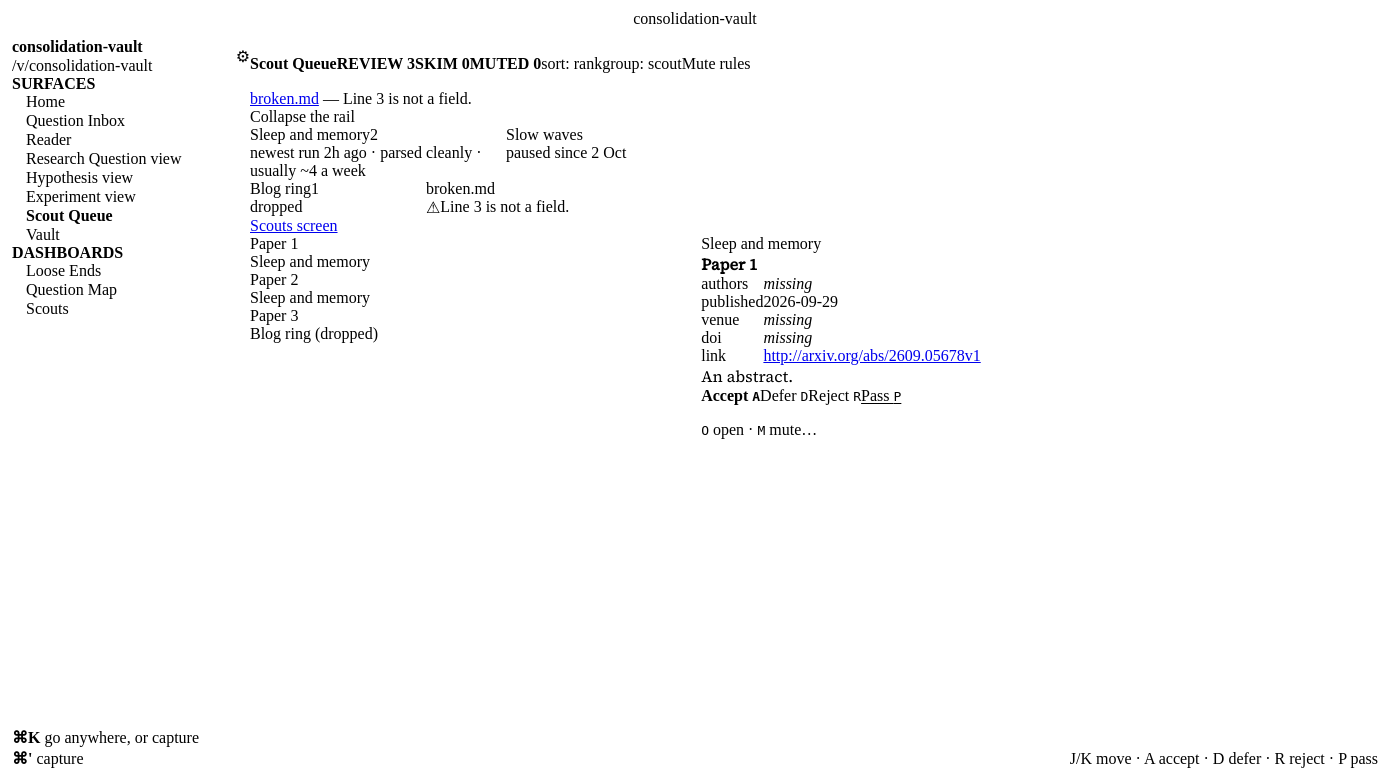
Test: filtering by the rail › has no Run now with no Scout filtered, and a link to the Scouts screen either way
This screenshot has width=1390, height=768.
Expected: the button "Run now" is not shown
Click the button "Sleep and memory" at [378, 153], box [250,126,506,180]
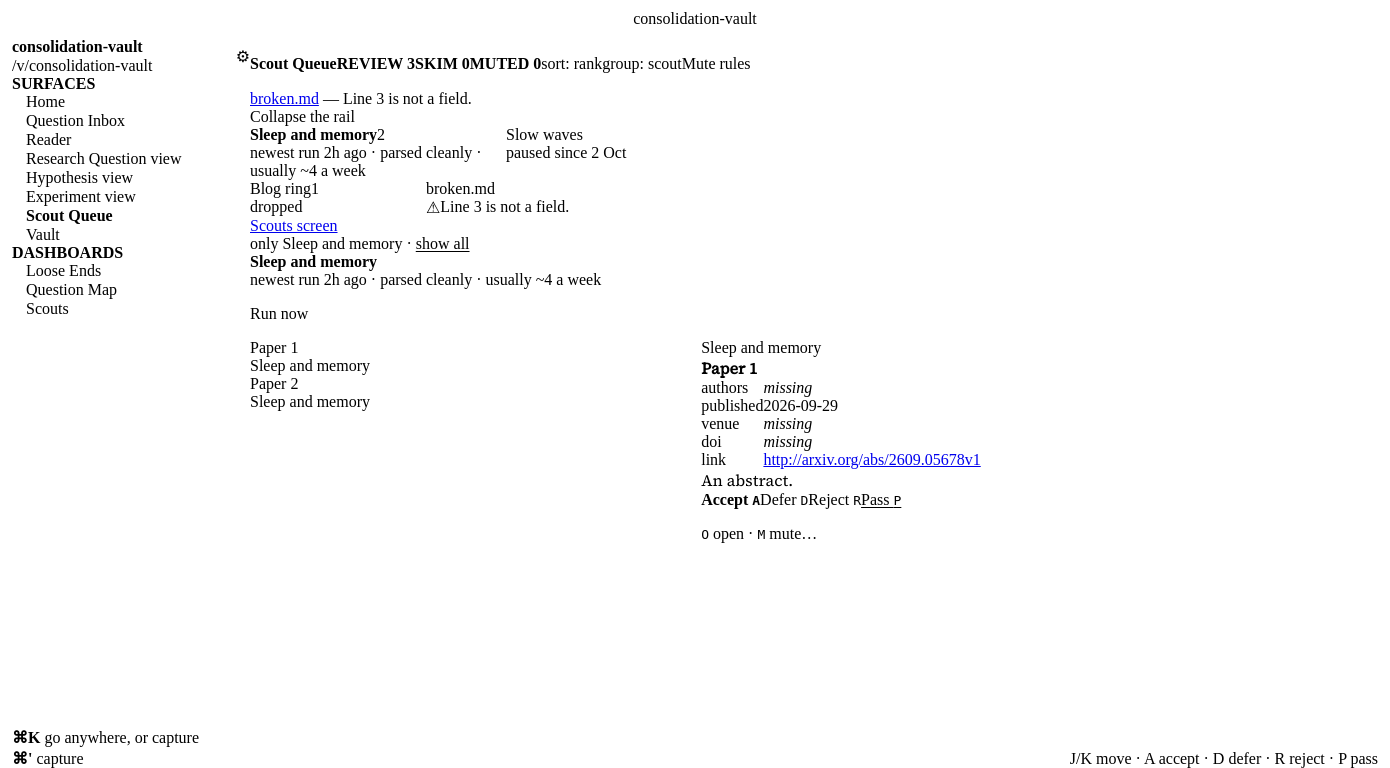
Expected: the link "Scouts screen" is shown, [250,217,338,234]
Expected: the button "Run now" is shown, [250,305,308,323]
